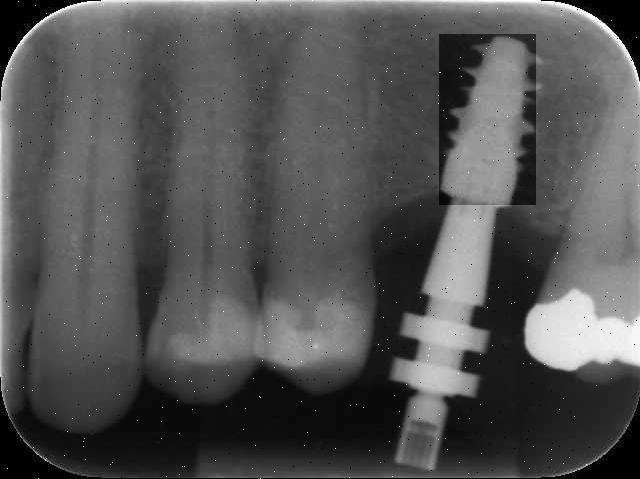Straumann: (437, 27, 543, 209)
